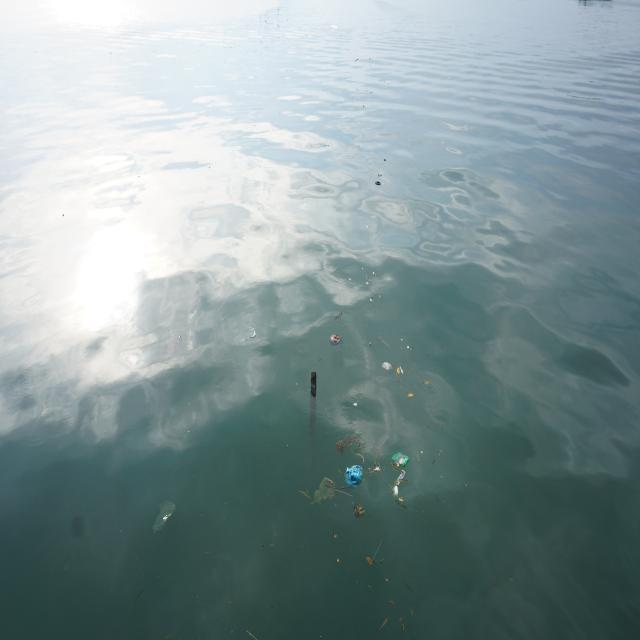Bungkus Makanan: (393, 450, 411, 468), (383, 361, 393, 373)
Bungkus Minuman: (354, 504, 366, 520), (379, 173, 384, 179)
Kantong Plastik: (154, 501, 178, 535), (315, 477, 336, 507), (344, 464, 365, 492), (331, 332, 343, 347)
